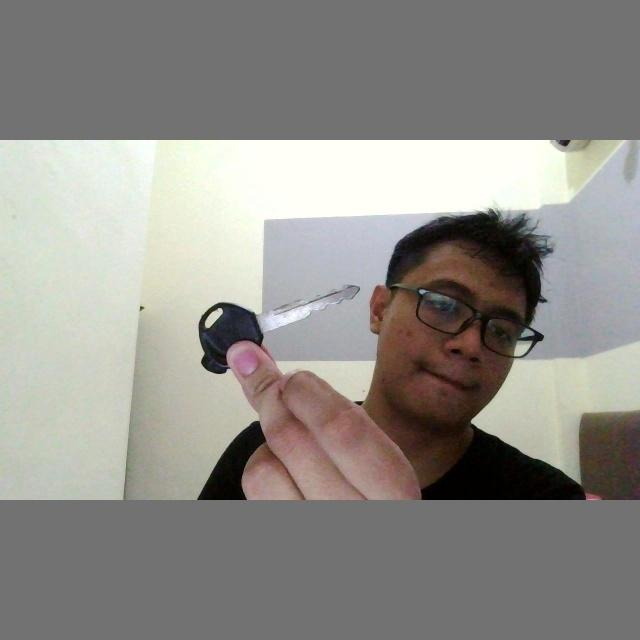Keys: (194, 281, 362, 374)
